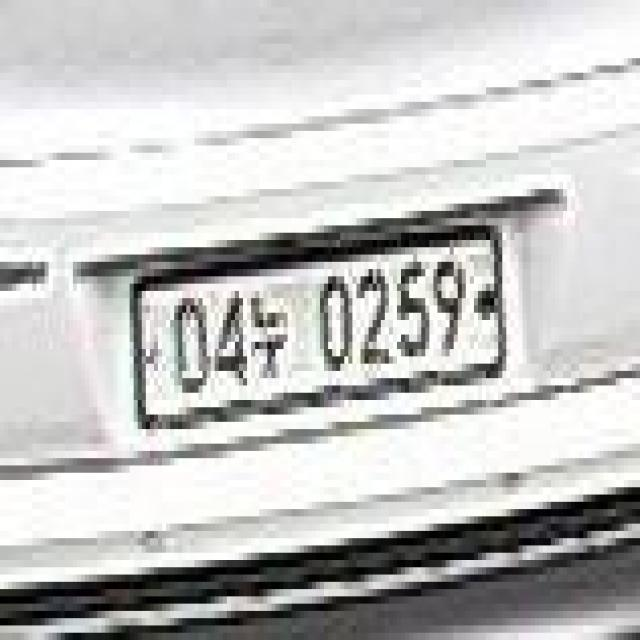illegal_plate: (129, 223, 513, 428)
